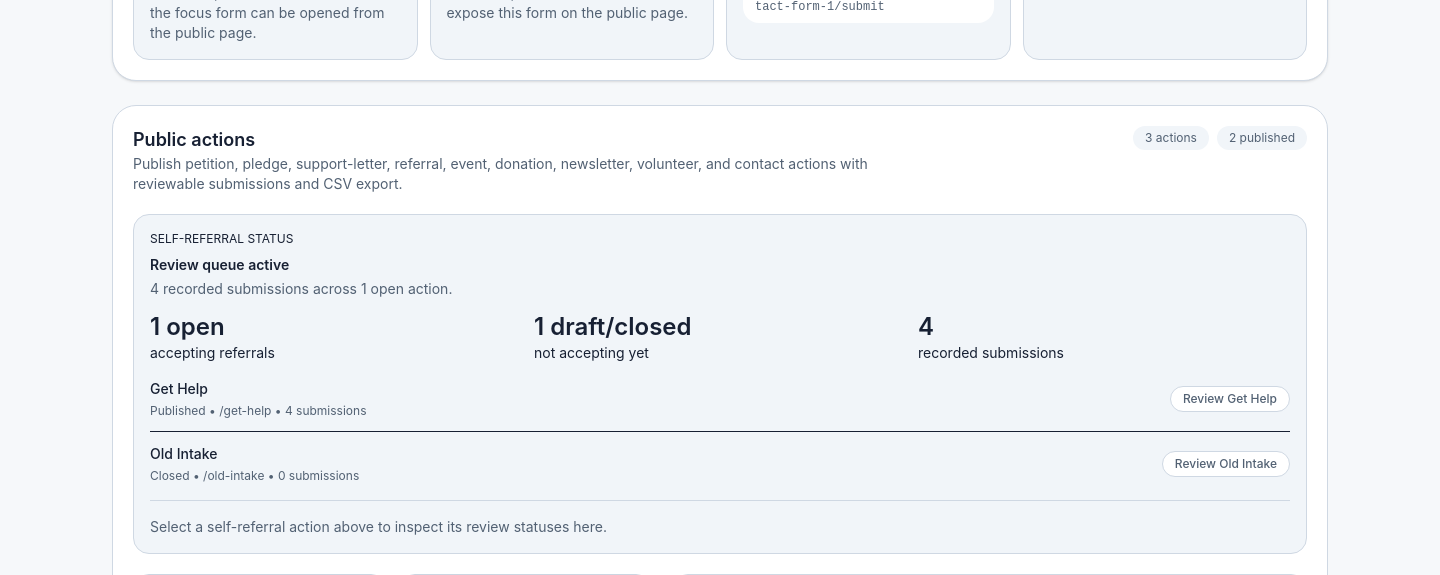
Test: WebsiteFormsPage › surfaces self-referral operator status and drills into reviewable submissions
The image size is (1440, 575).
(page scrolled)
Expected: the text "Review queue active" is shown, x1=150 y1=256 x2=289 y2=273
Expected: the text "4 recorded submissions across 1 open action." is shown, x1=150 y1=280 x2=452 y2=297
Click the button "Review Get Help": point(1230, 399) x1=1170 y1=386 x2=1290 y2=412
(page scrolled)
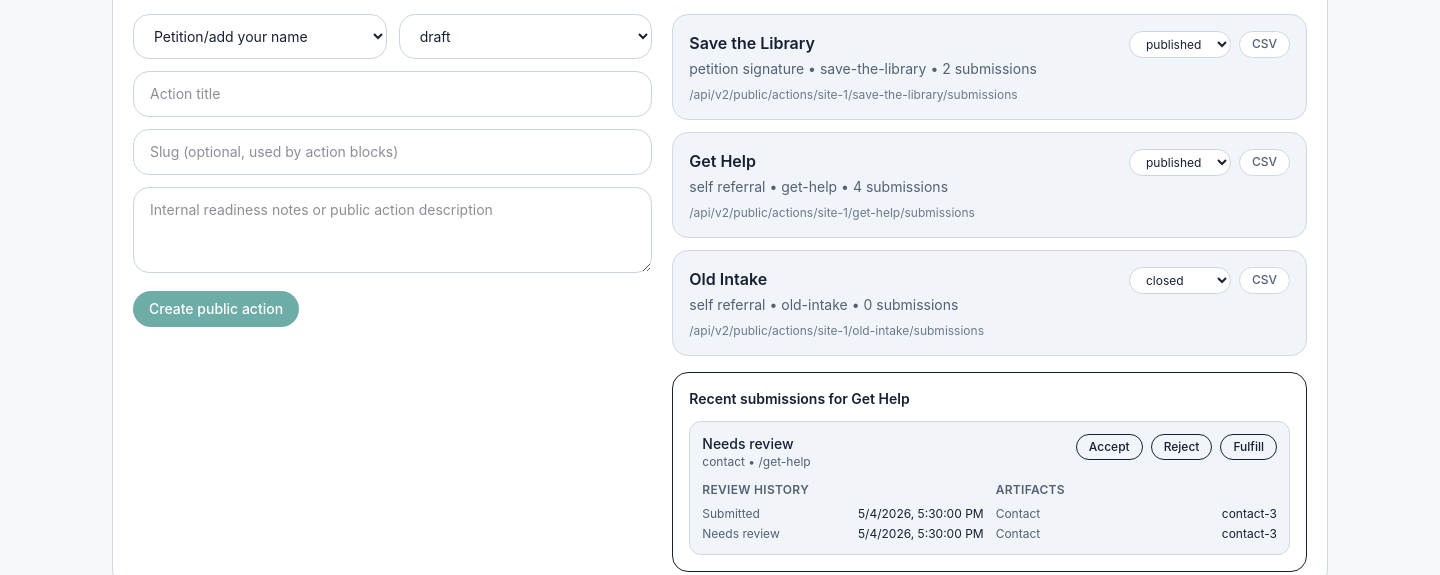
Now the heading "Recent submissions for Get Help" is shown, box x1=689 y1=390 x2=910 y2=407
